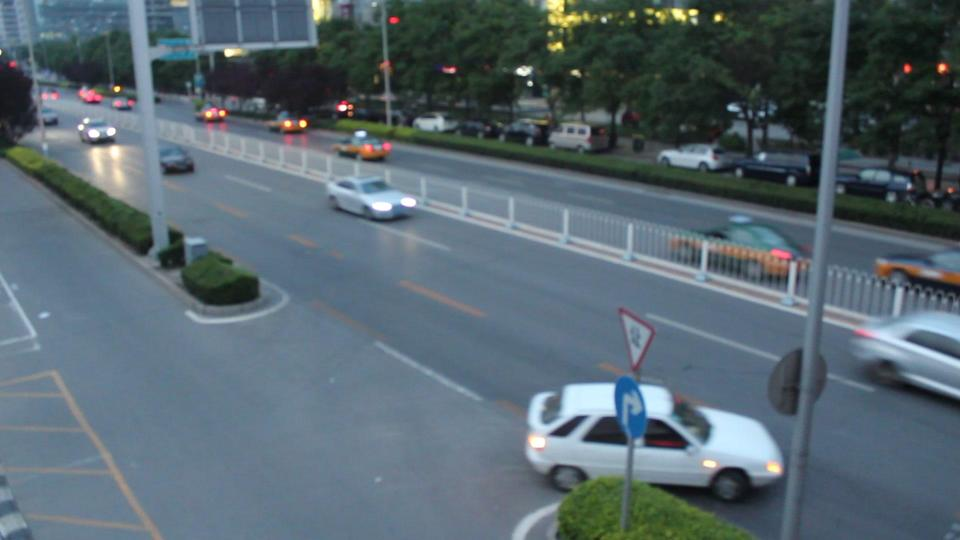car: (524, 384, 784, 502), (848, 310, 960, 403), (669, 215, 813, 281), (325, 175, 419, 221), (874, 248, 960, 292), (835, 162, 922, 200), (736, 150, 818, 187), (657, 143, 746, 174), (333, 139, 392, 162), (160, 142, 196, 174), (412, 112, 463, 133), (78, 118, 118, 144), (264, 112, 310, 133), (196, 106, 230, 122), (110, 95, 136, 111), (79, 89, 104, 105), (39, 107, 60, 126)
sign: (616, 308, 655, 371), (612, 380, 650, 438)
traffic light: (388, 15, 403, 32)
truck: (547, 123, 613, 154)
